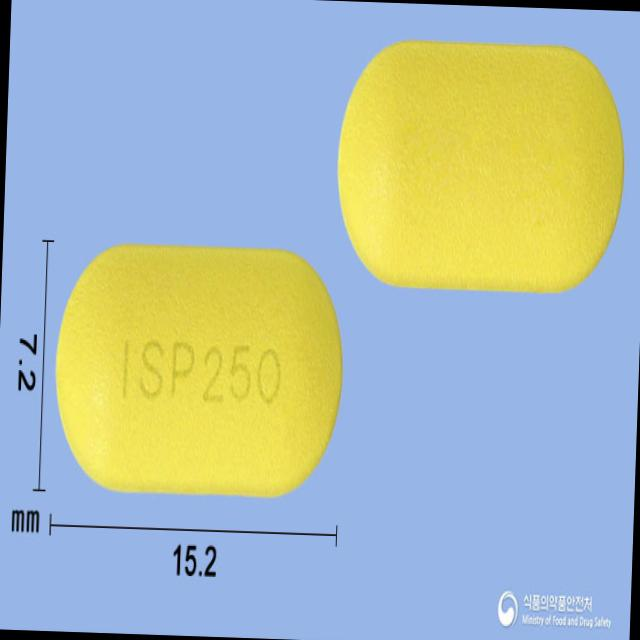Ilsung Clarithromycin - 500mg: (51, 238, 348, 498)
